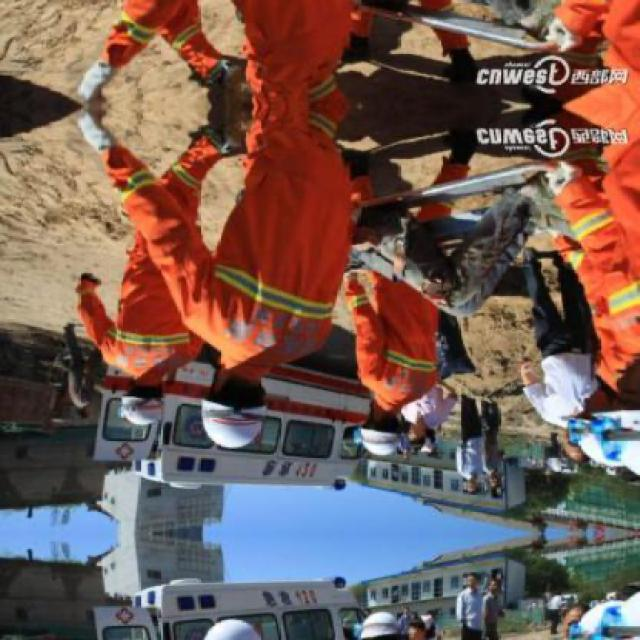con casco: (191, 339, 299, 456), (320, 381, 434, 491), (80, 364, 184, 456), (562, 371, 640, 478)
